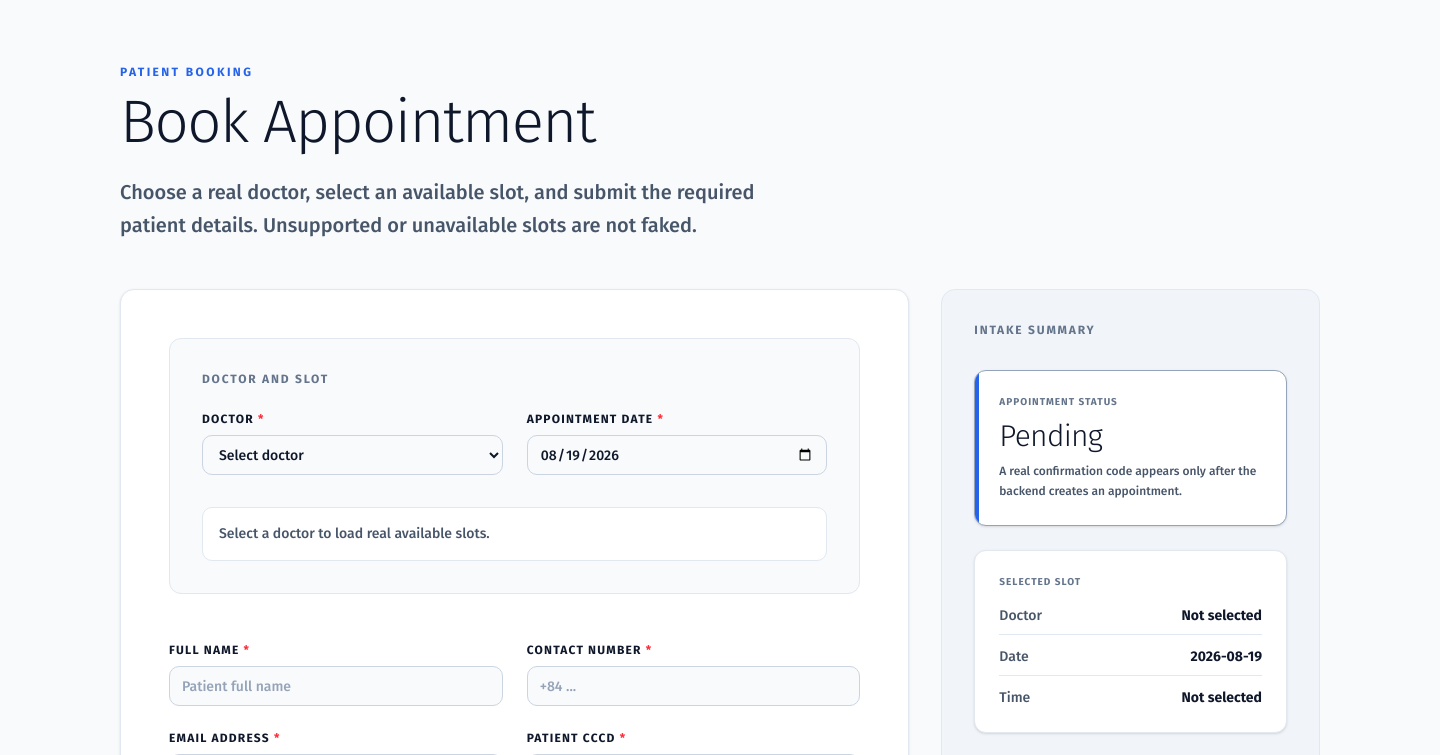
Test: PublicBookingPage › handles doctor clearing and empty slot responses
Select "Dr. Lan Tran - Cardiology" in the dropdown labelled "Doctor *": (352, 455) x1=202 y1=435 x2=503 y2=475
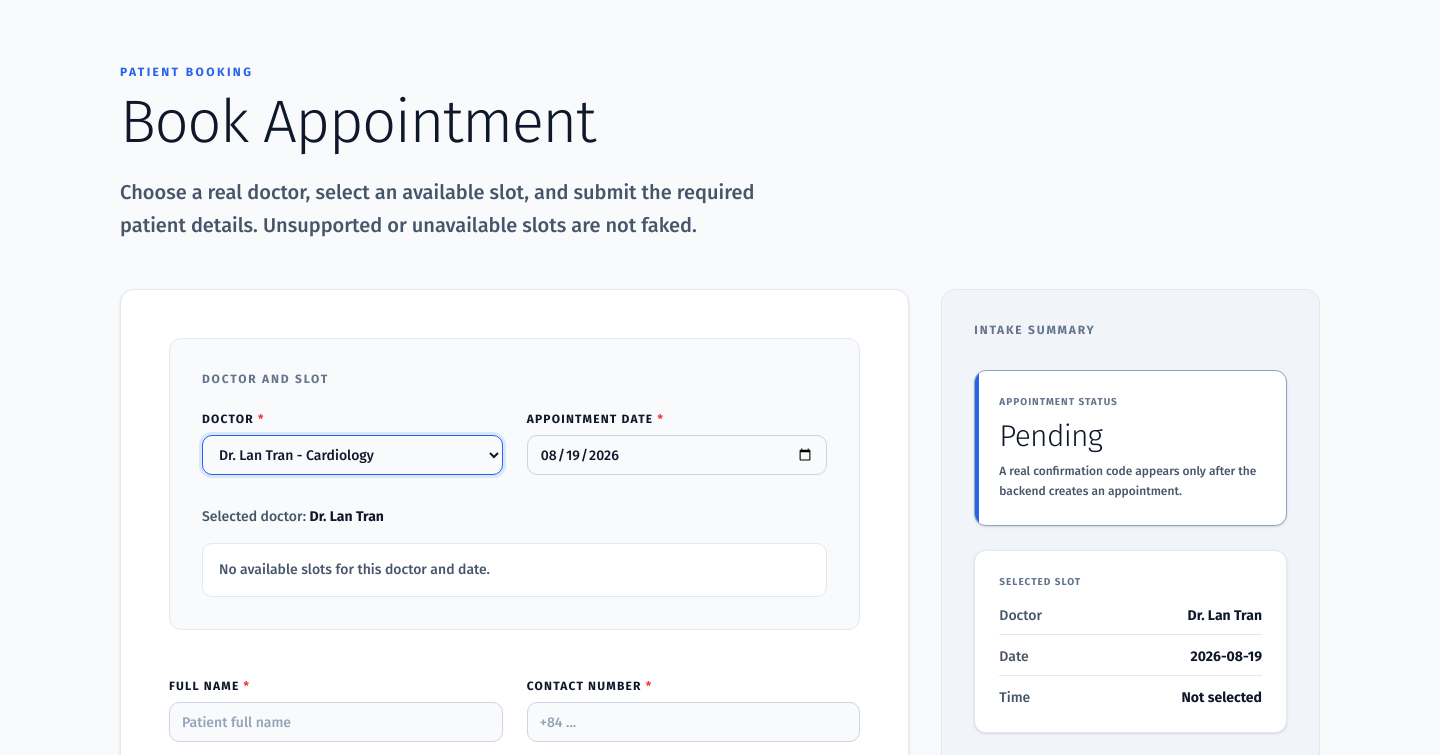
Now the text "No available slots for this doctor and date." is shown, box x1=202 y1=543 x2=827 y2=597
Select "Select doctor" in the dropdown labelled "Doctor *": (352, 455) x1=202 y1=435 x2=503 y2=475
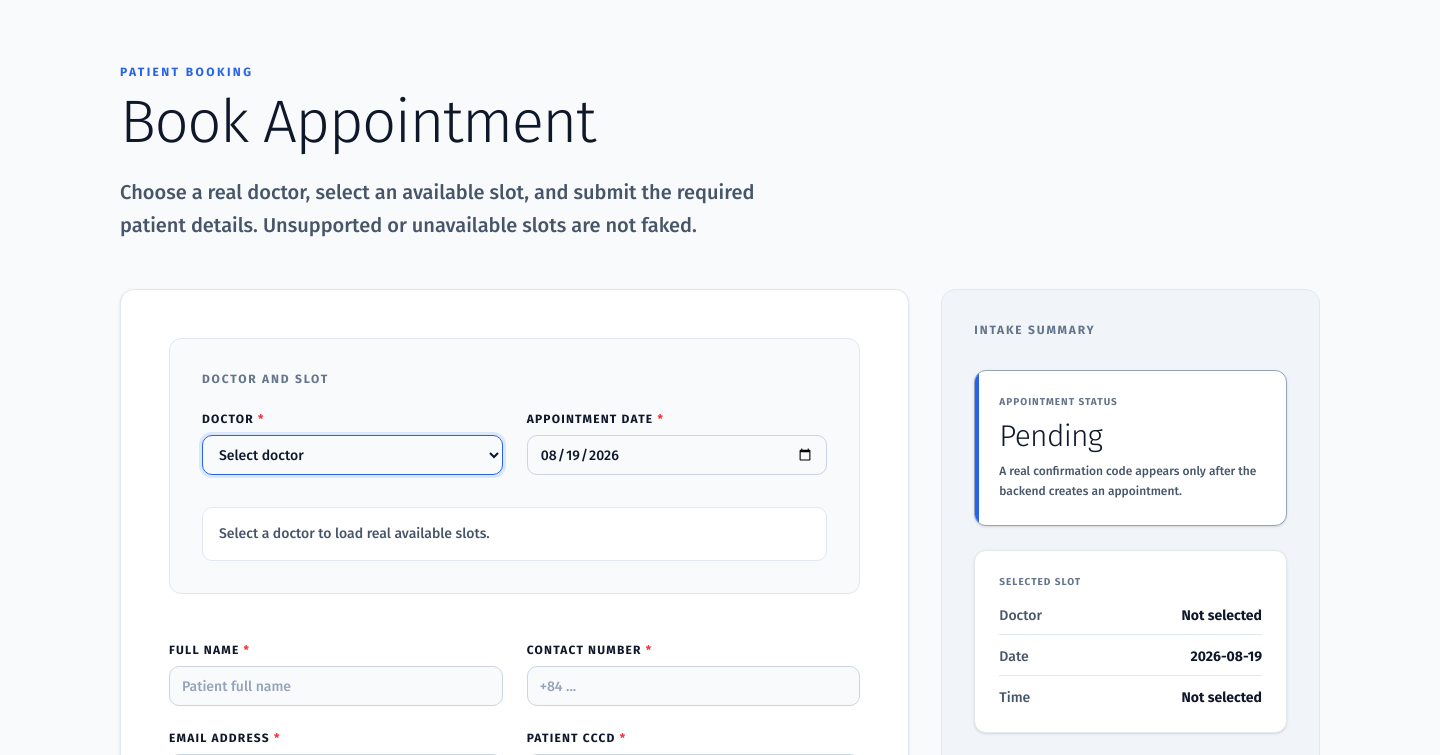
Now the text "Select a doctor to load real available slots." is shown, box x1=202 y1=507 x2=827 y2=561
